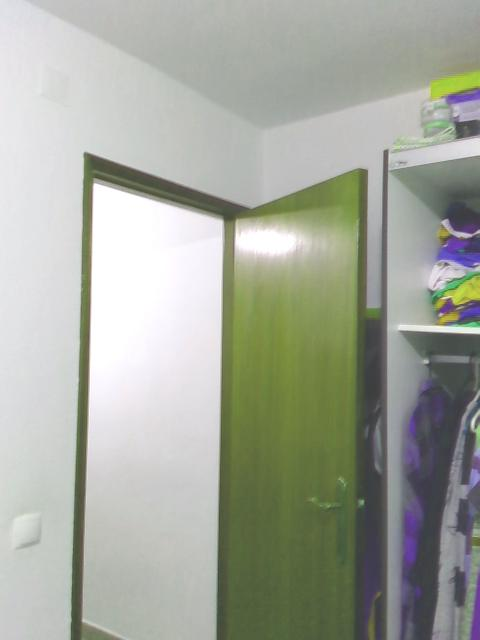open_door: (72, 147, 262, 638)
